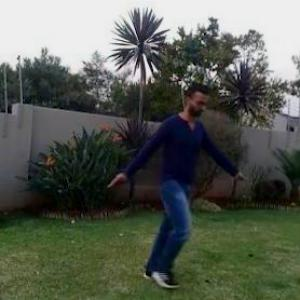land: (80, 66, 259, 296)
